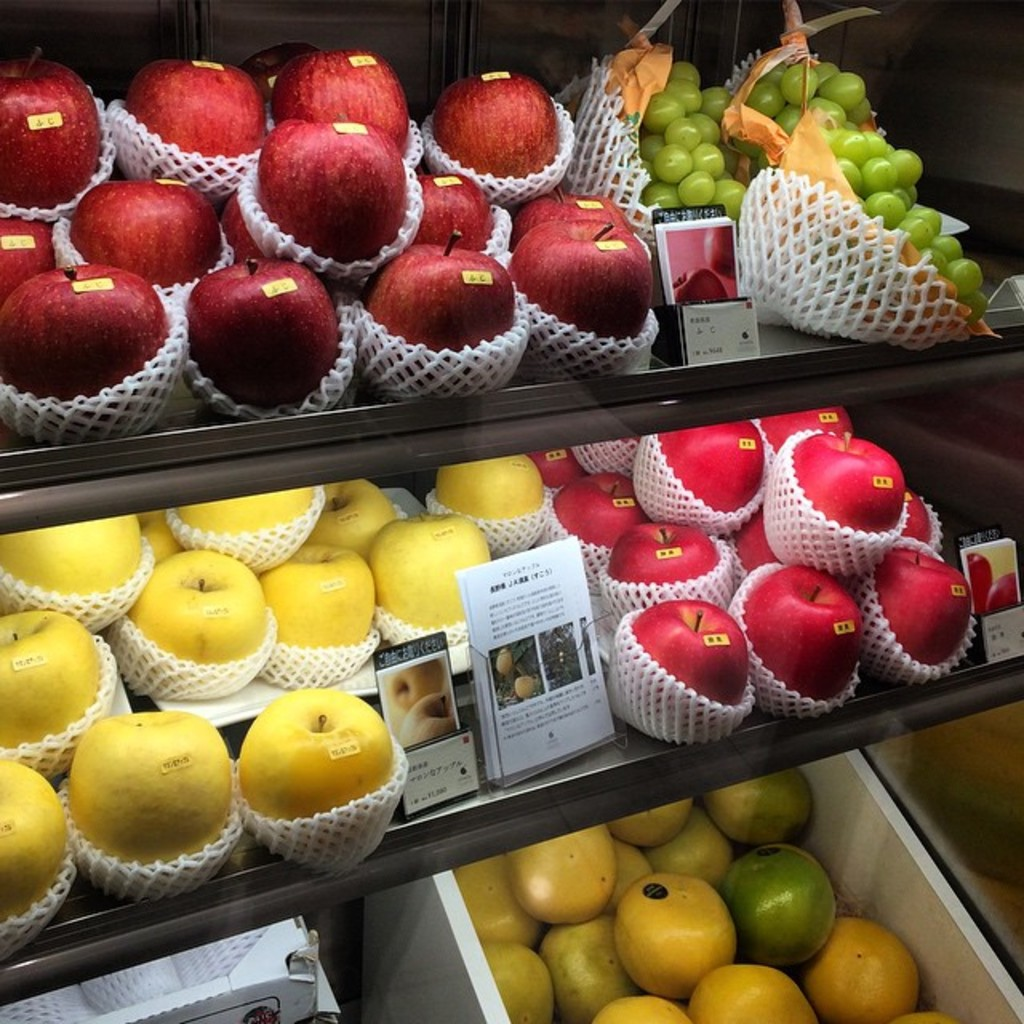Apple: (0, 452, 551, 960), (0, 48, 654, 390), (523, 404, 976, 748), (176, 241, 340, 400), (395, 689, 459, 747), (384, 665, 443, 715)
